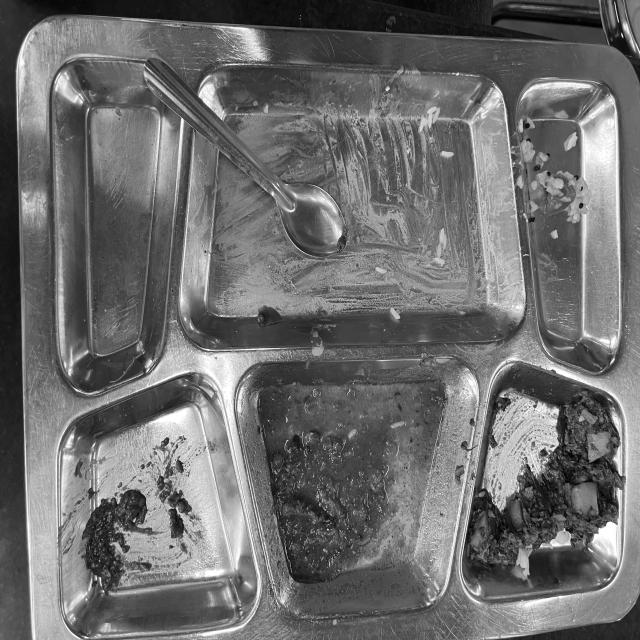0.3- Food Left: (39, 34, 626, 607), (630, 3, 640, 53)
